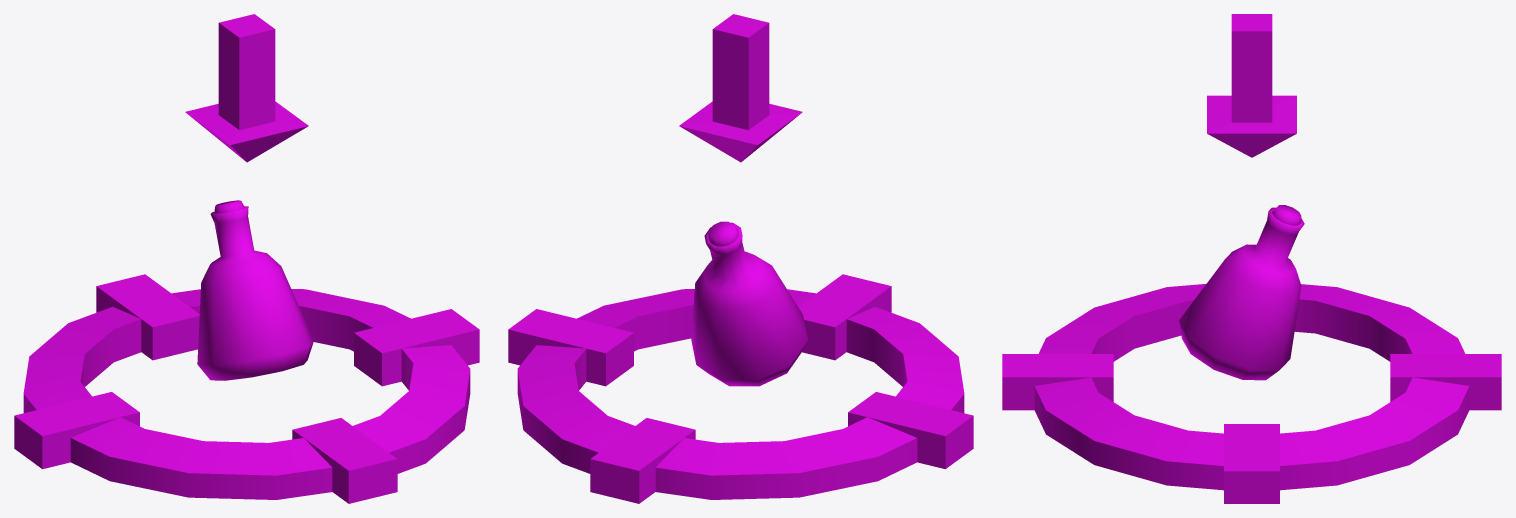
File: crosshair.glb
3 renders of one model, left to right at view 1: azimuth 30°, elevation 25°; view 2: azimuth 150°, elevation 25°; view 3: azimuth 270°, elevation 25°, orthographic.
Visible parts, largest first — view 1: Reticle, Bottle, Arrow; view 2: Reticle, Bottle, Arrow; view 3: Reticle, Bottle, Arrow.
Boxes of the visible parts, x1,y1,x2,y2 form: Reticle: (14, 274, 479, 503); Bottle: (197, 200, 313, 380); Arrow: (185, 14, 308, 162); Reticle: (508, 274, 973, 503); Bottle: (691, 221, 807, 386); Arrow: (679, 14, 802, 162); Reticle: (1002, 284, 1501, 503); Bottle: (1179, 205, 1304, 380); Arrow: (1207, 14, 1296, 157).
Size of the model in its own units: 0.8961 by 0.7437 by 0.8961.
